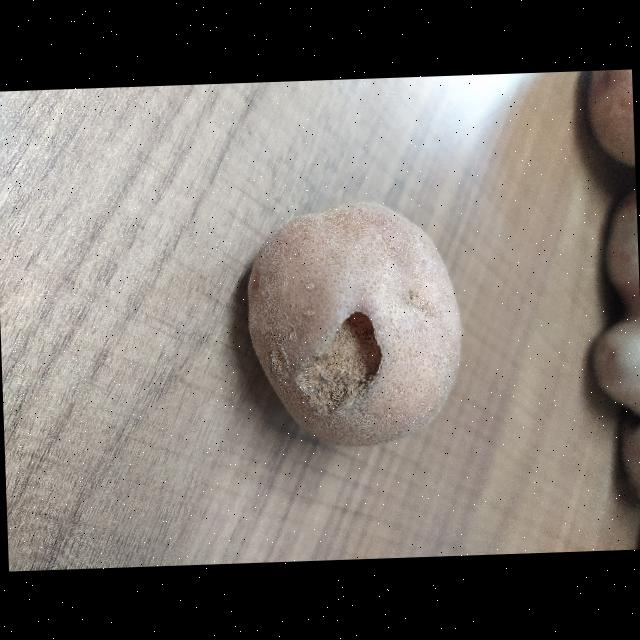Damaged potato: (276, 244, 541, 481)
